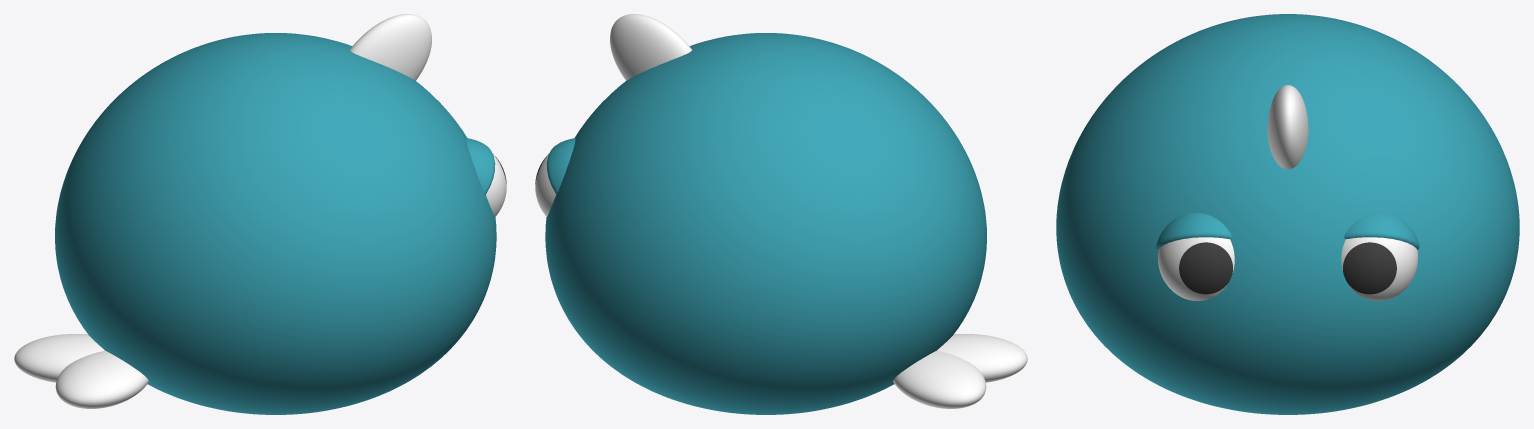
File: ARcharacter.glb
The picture shows the model from 3 angles, left to right: view 1: azimuth 30°, elevation 25°; view 2: azimuth 150°, elevation 25°; view 3: azimuth 270°, elevation 25°; orthographic projection. The views are drawn at different scales.
Parts seen in each view (by area): view 1: body, Sphere.004, head, eye, Sphere.001; view 2: body, Sphere.004, head, eye, Sphere.001; view 3: body, Sphere.001, eye, head.
Boxes of the visible parts, <box> form: body: <box>55,33,496,414</box>; Sphere.004: <box>14,334,148,408</box>; head: <box>350,14,431,80</box>; eye: <box>466,138,495,194</box>; Sphere.001: <box>486,153,506,216</box>; body: <box>545,33,986,414</box>; Sphere.004: <box>893,334,1027,408</box>; head: <box>610,14,691,80</box>; eye: <box>546,138,575,194</box>; Sphere.001: <box>535,153,555,216</box>; body: <box>1056,14,1519,414</box>; Sphere.001: <box>1158,237,1417,300</box>; eye: <box>1156,213,1419,249</box>; head: <box>1267,85,1308,169</box>.
Size of the model in its own units: 17.99 by 13.63 by 16.12.
